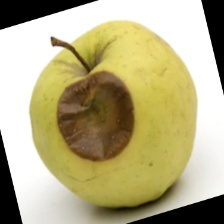apple: (33, 42, 203, 185)
